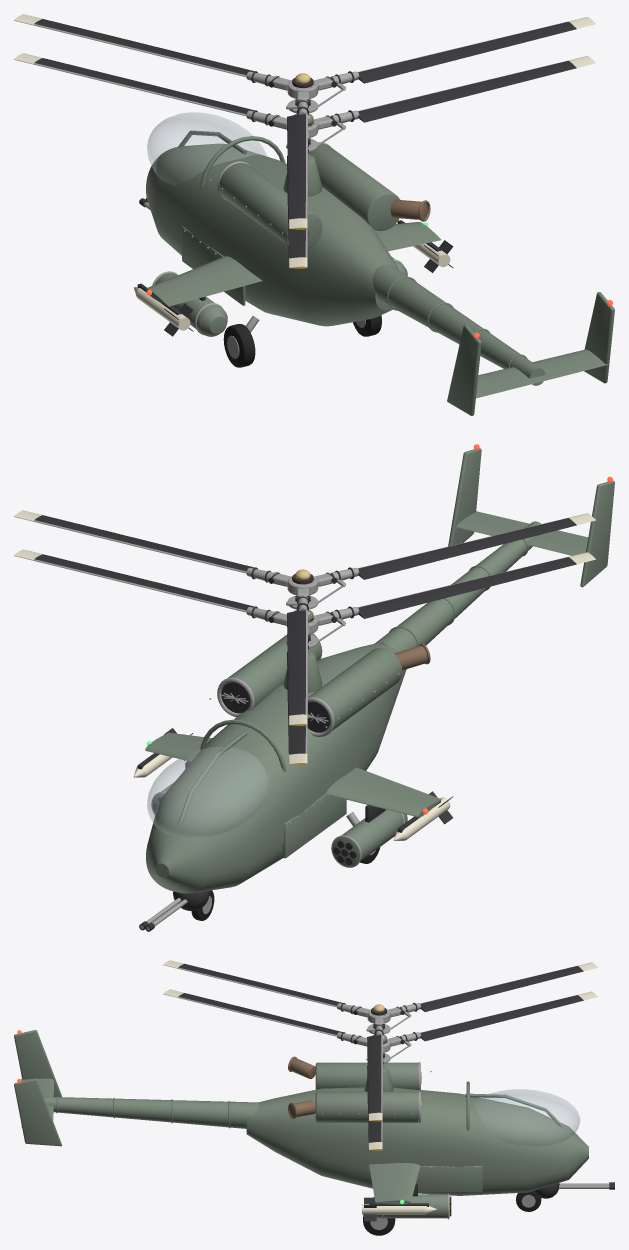
File: striker.glb
3 views of the same model, one above another, from view 1: azimuth 30°, elevation 25°; view 2: azimuth 150°, elevation 25°; view 3: azimuth 270°, elevation 25° (orthographic). The views are drawn at different scales.
Visible parts, largest first — view 1: body, rotor_upper, rotor; view 2: body, rotor_upper, rotor; view 3: body, rotor_upper, rotor.
Boxes of the visible parts, x1,y1,x2,y2 form: body: (134,112,614,415); rotor_upper: (14,14,595,229); rotor: (14,53,595,268); body: (133,444,614,931); rotor_upper: (14,510,596,725); rotor: (14,549,595,764); body: (14,1030,614,1235); rotor_upper: (163,960,598,1121); rotor: (163,989,597,1150).
Size of the model in its own units: 6.61 by 3.95 by 10.45.
